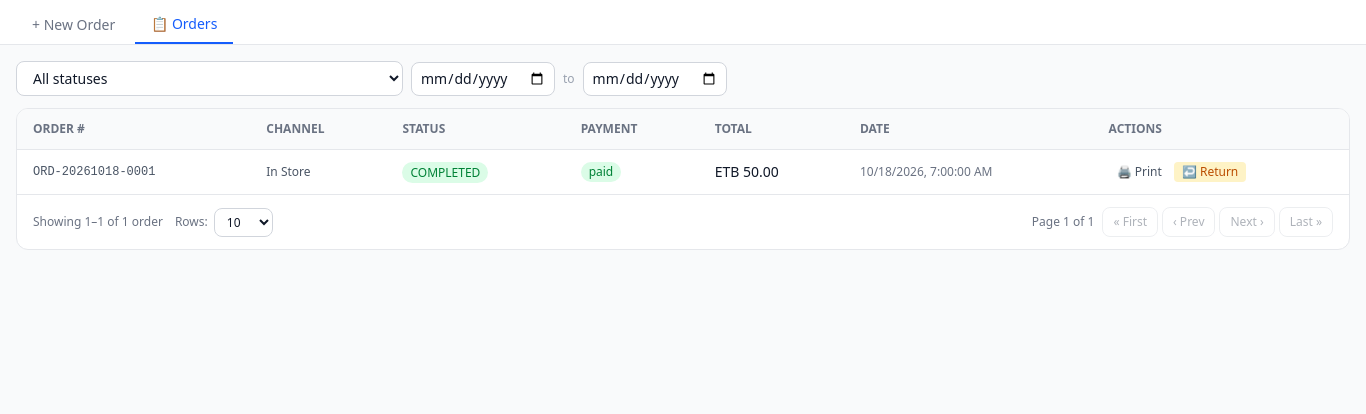
steps on an order › shows what came back of a delivered order, and its returns; the order stays completed (4a)
Click the text "ORD-20261018-0001" at (134, 172), box [17,150,250,194]
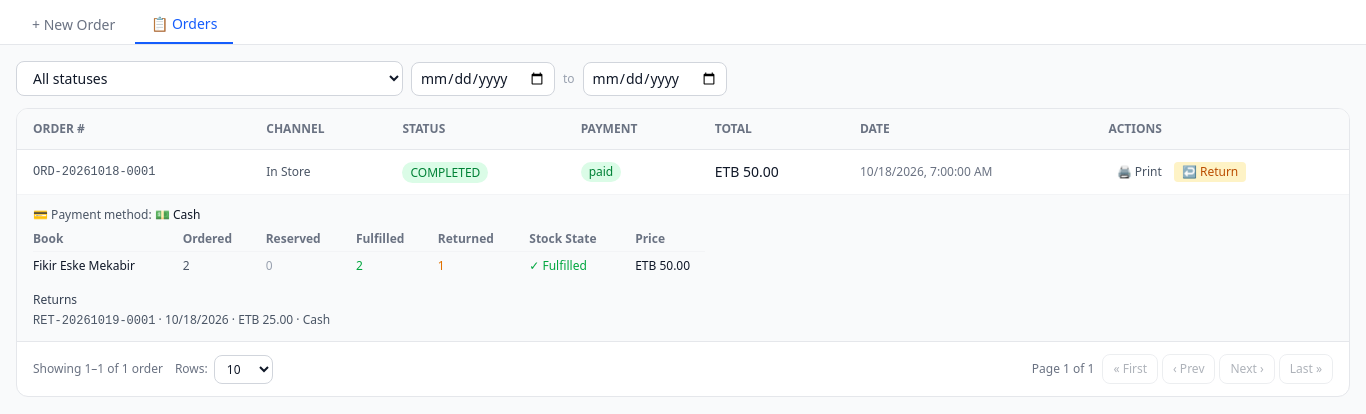
Expected: the text "RET-20261019-0001" is shown, [33,314,155,328]
Expected: the column heading "Returned" is shown, [438,231,529,252]
